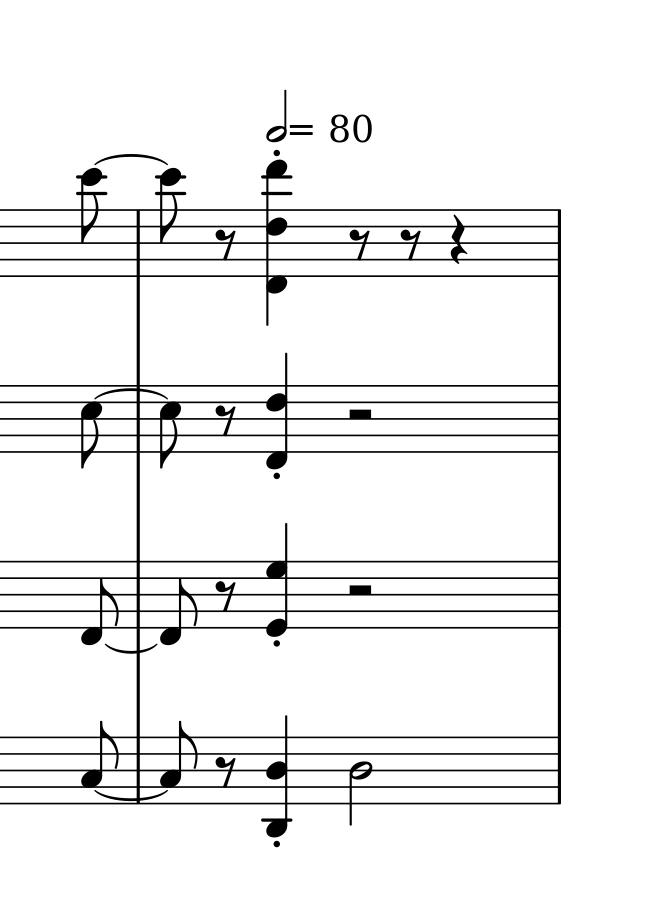0: (350, 112, 373, 145)
2_4: (348, 741, 374, 822)
4_-1_6: (265, 353, 290, 469)
4_-3_4: (263, 715, 293, 838)
4_0_7: (265, 522, 289, 638)
8: (328, 113, 349, 143)
8_-1: (79, 557, 118, 648), (158, 558, 197, 648)
8_12: (157, 168, 186, 280), (79, 169, 107, 279)
8_3: (158, 719, 199, 806), (80, 720, 118, 806)
8_5: (157, 383, 183, 469), (78, 384, 103, 469)
Rests2: (345, 582, 376, 600), (345, 406, 375, 423)
Rests4: (448, 213, 469, 267)
Rests8: (213, 579, 239, 614), (214, 228, 239, 263), (214, 403, 239, 438), (214, 754, 239, 789), (399, 228, 423, 261), (348, 227, 371, 261)
Single_barline: (550, 736, 567, 804), (129, 737, 146, 805), (550, 561, 566, 630), (550, 385, 566, 452), (130, 210, 146, 276), (552, 209, 566, 277)
Slur: (94, 152, 165, 166), (95, 388, 170, 401), (94, 789, 165, 802), (107, 642, 159, 655)
Speed2: (266, 90, 313, 145)
